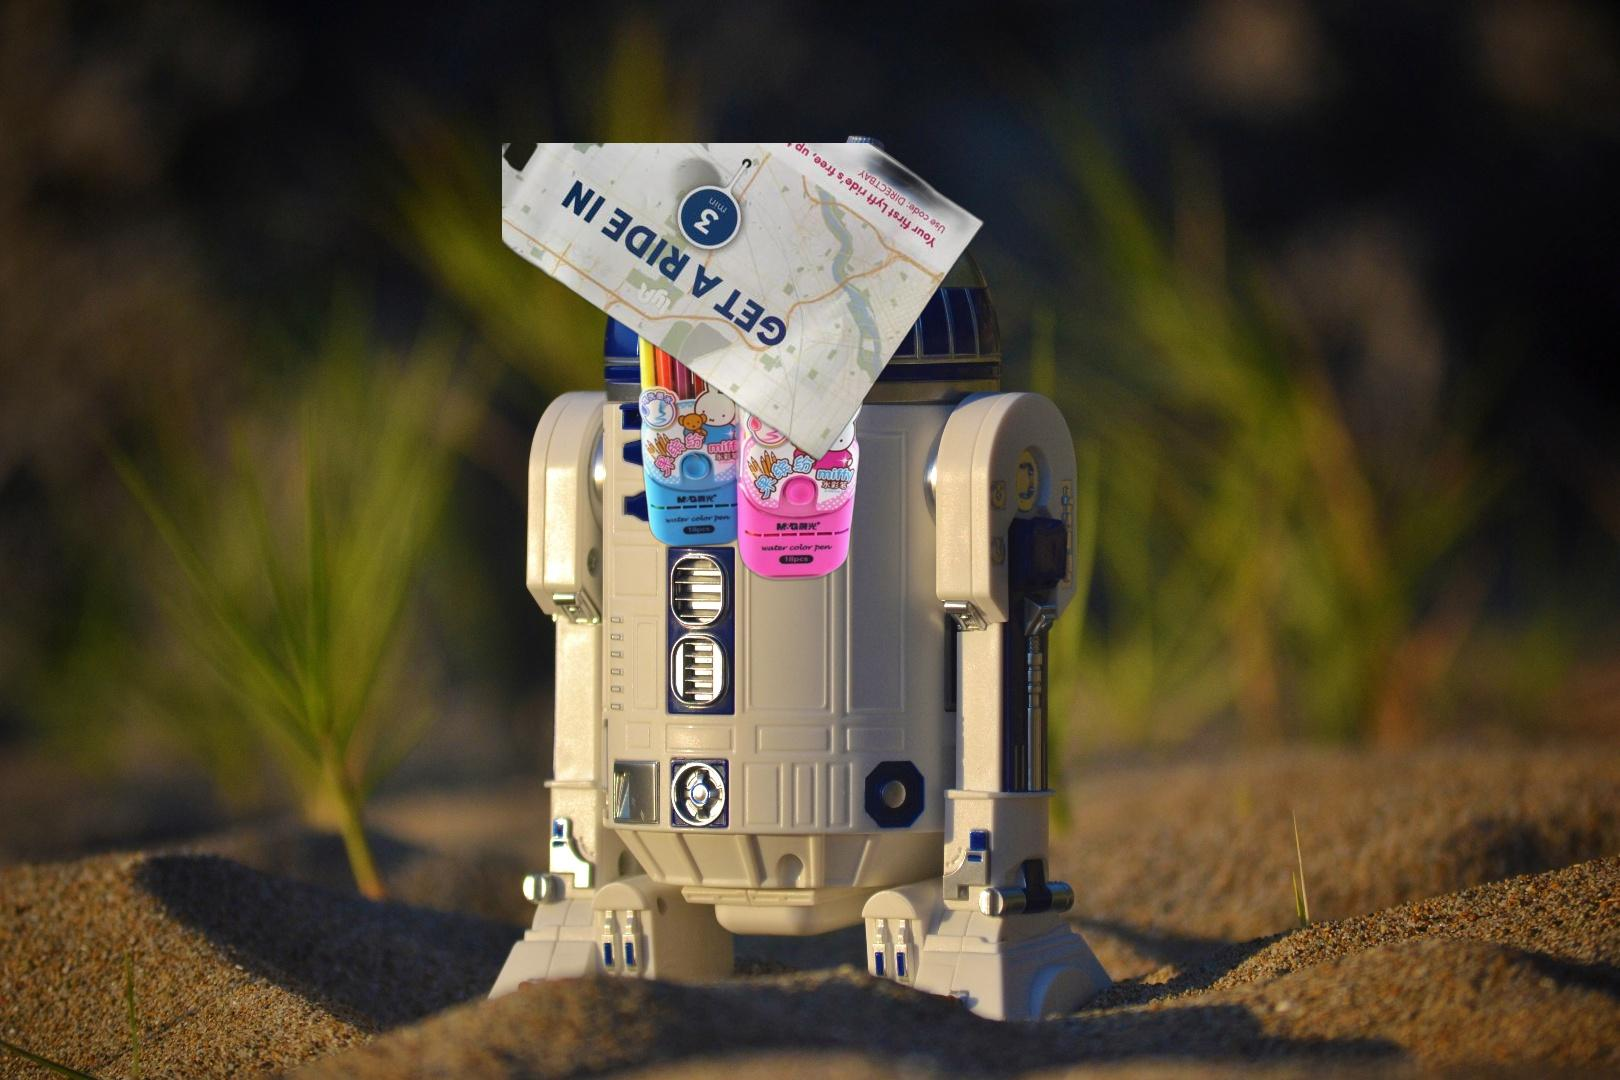paper: (501, 143, 990, 466)
penholder: (629, 230, 869, 583)
